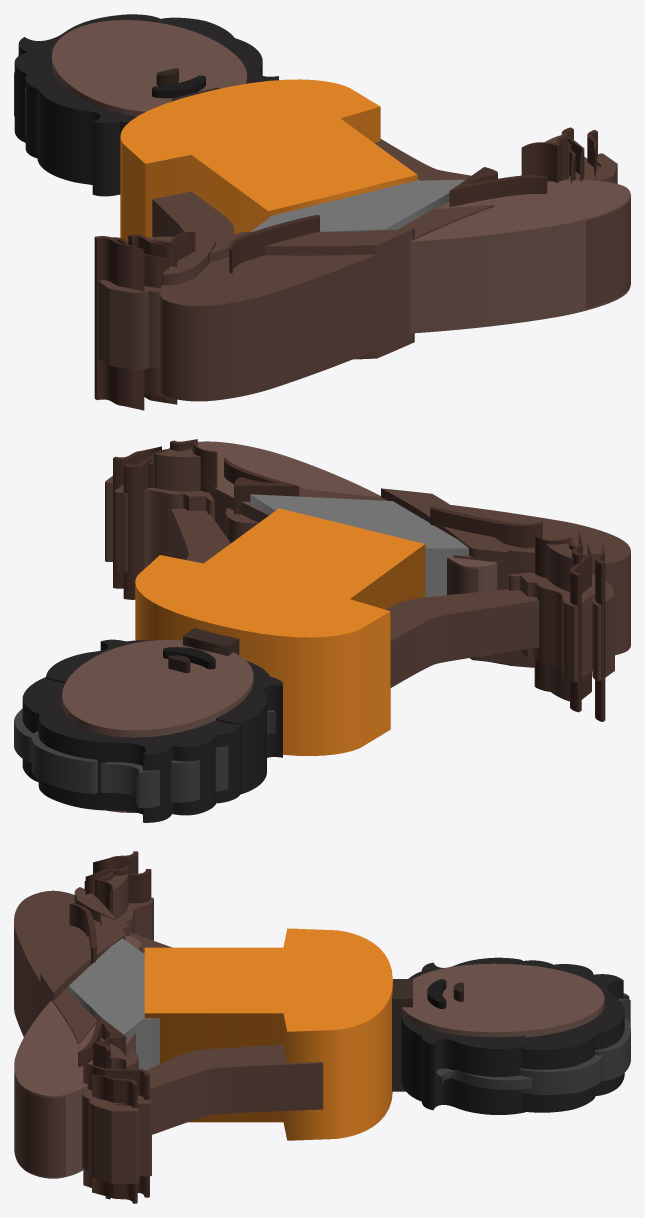
The model's file is emoji_u1f9d8_1f3ff.glb.
3 views of the same model, one above another, from view 1: azimuth 30°, elevation 25°; view 2: azimuth 150°, elevation 25°; view 3: azimuth 270°, elevation 25° (orthographic). The views are drawn at different scales.
Visible parts, largest first — view 1: emoji_u1f9d8_1f3ff; view 2: emoji_u1f9d8_1f3ff; view 3: emoji_u1f9d8_1f3ff.
Boxes of the visible parts, x1,y1,x2,y2 form: emoji_u1f9d8_1f3ff: (14,14,630,410); emoji_u1f9d8_1f3ff: (14,439,630,822); emoji_u1f9d8_1f3ff: (14,851,630,1203).
Bounding box in the file's own units: 0.029 × 0.009 × 0.0339.
